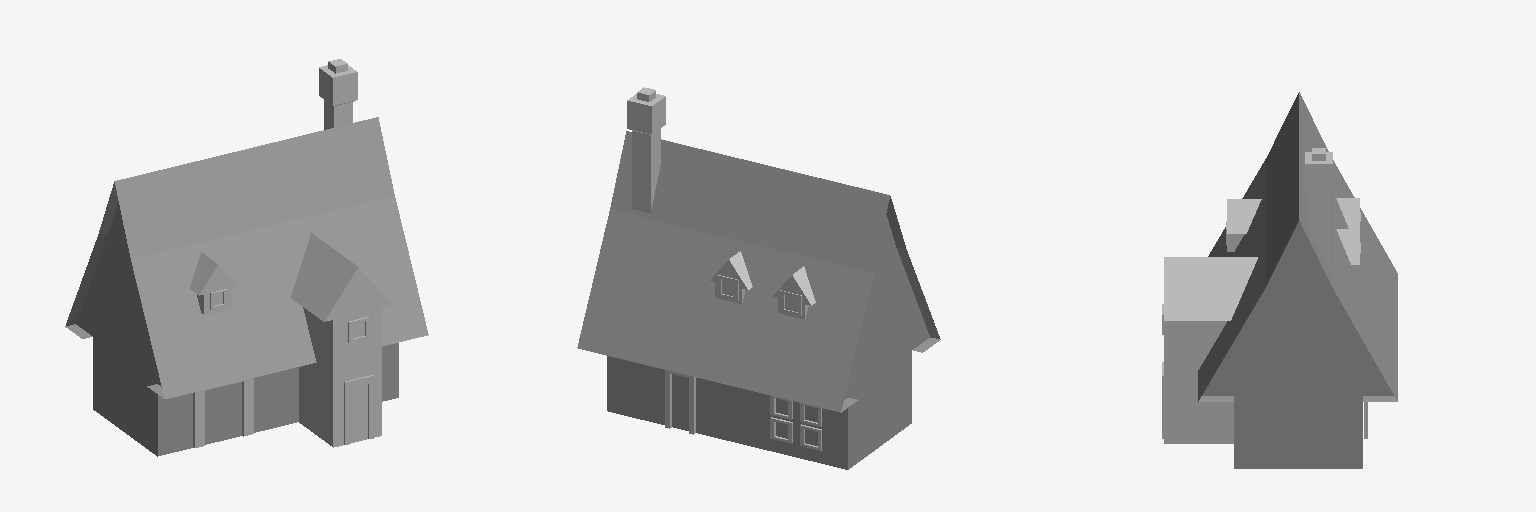
File: home2.obj
3 views of the same model, side by side, from view 1: azimuth 30°, elevation 25°; view 2: azimuth 150°, elevation 25°; view 3: azimuth 270°, elevation 25° (orthographic).
Parts seen in each view (by area): view 1: Cube, Cube.001, Cube.008, Cube.013, Cube.002; view 2: Cube, Cube.008, Cube.001, Cube.003; view 3: Cube, Cube.001, Cube.008.
Part boxes in pixels (left/top/right/bottom): Cube: left=65, top=117, right=428, bottom=456; Cube.001: left=190, top=233, right=391, bottom=447; Cube.008: left=319, top=59, right=357, bottom=129; Cube.013: left=193, top=378, right=253, bottom=447; Cube.002: left=344, top=375, right=373, bottom=444; Cube: left=577, top=131, right=940, bottom=469; Cube.008: left=627, top=87, right=665, bottom=213; Cube.001: left=710, top=251, right=815, bottom=319; Cube.003: left=665, top=370, right=695, bottom=434; Cube: left=1198, top=92, right=1397, bottom=468; Cube.001: left=1164, top=198, right=1359, bottom=443; Cube.008: left=1305, top=148, right=1332, bottom=270.
Size of the model in its own units: 11.08 by 12.37 by 8.56.